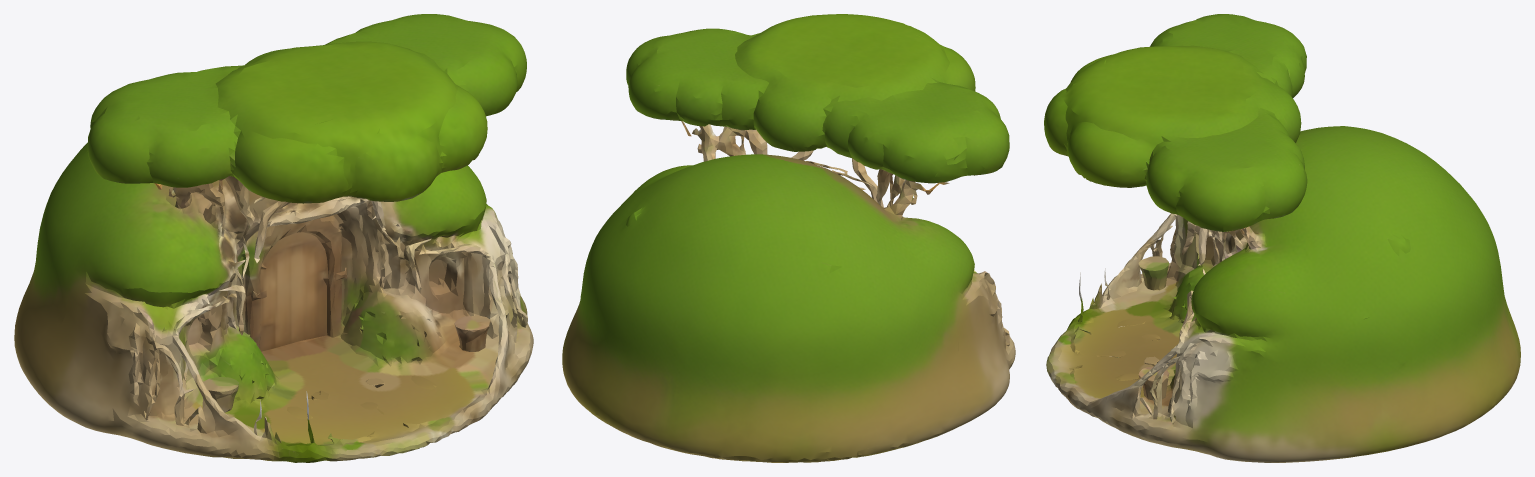
3 renders of one model, left to right at view 1: azimuth 30°, elevation 25°; view 2: azimuth 150°, elevation 25°; view 3: azimuth 270°, elevation 25°, orthographic. The views are drawn at different scales.
Visible parts, largest first — view 1: HiddenTunnel; view 2: HiddenTunnel; view 3: HiddenTunnel.
Part boxes in pixels (<box>): HiddenTunnel: <box>14,14,533,462</box>; HiddenTunnel: <box>562,14,1015,462</box>; HiddenTunnel: <box>1044,14,1520,462</box>.
Bounding box in the file's own units: 1.82 × 1.23 × 1.86.
Materials: 1 (1 with a texture image).
